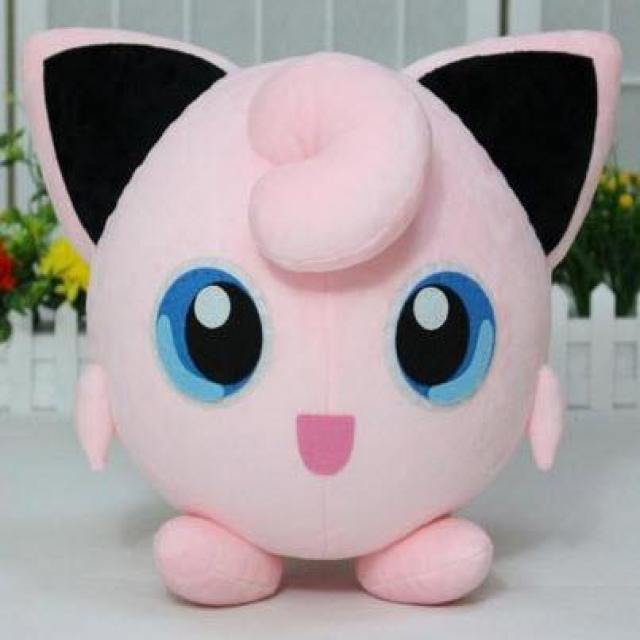Jigglypuff: (44, 41, 606, 601)
